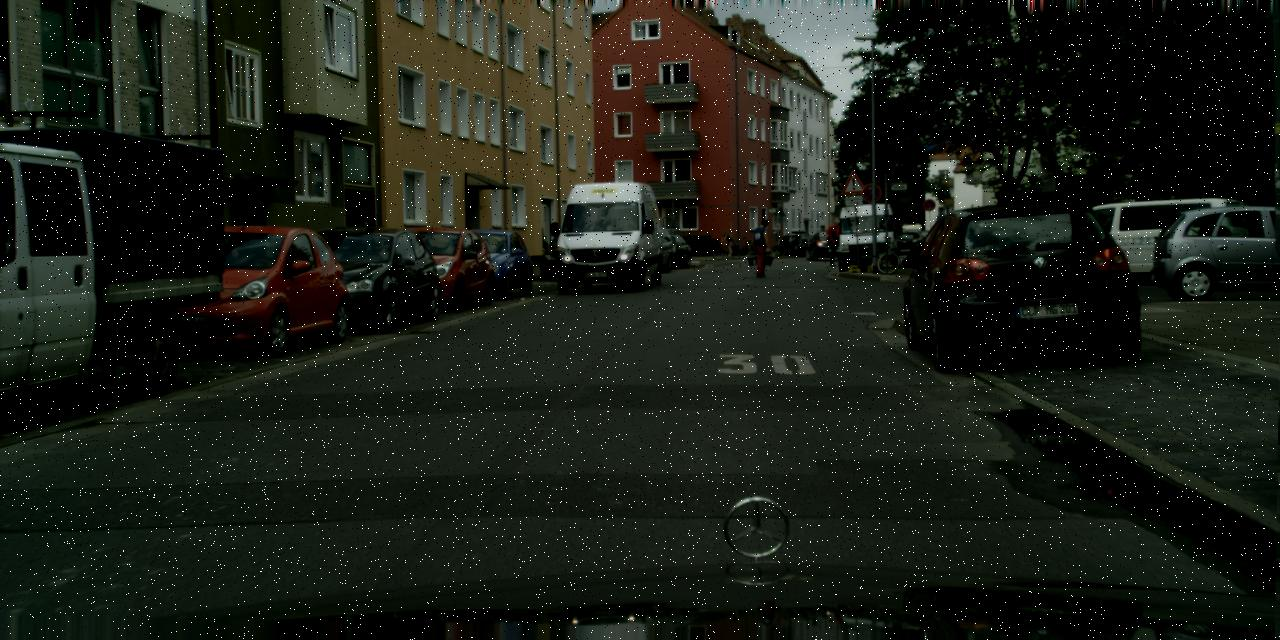ped: (750, 218, 774, 276), (824, 218, 844, 266), (722, 230, 732, 256)
